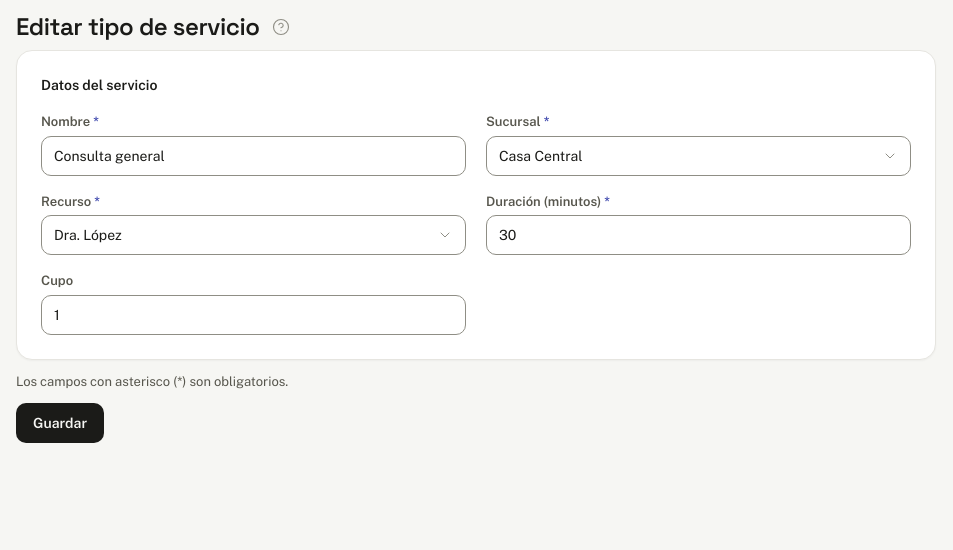
Test case: ServiceTypeFormPage — edición › un error del backend se muestra sin navegar
Expected: the field labelled "Nombre" is shown, [41, 136, 466, 176]
Expected: the dropdown labelled "Recurso" is shown, [41, 215, 466, 255]
Click the button "Guardar".
click(60, 423)  # box [16, 403, 104, 443]
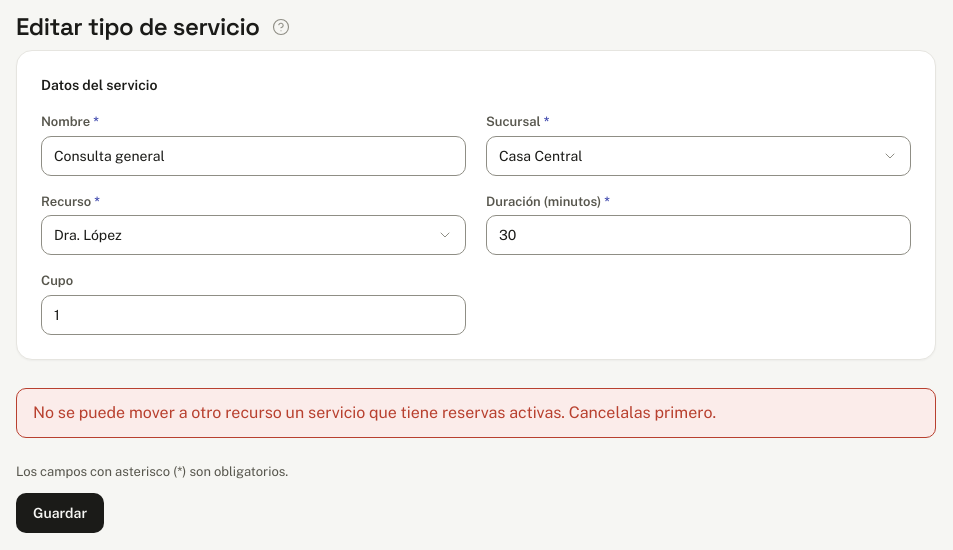
Result: the message shows "reservas activas" at [33, 402, 716, 422]
